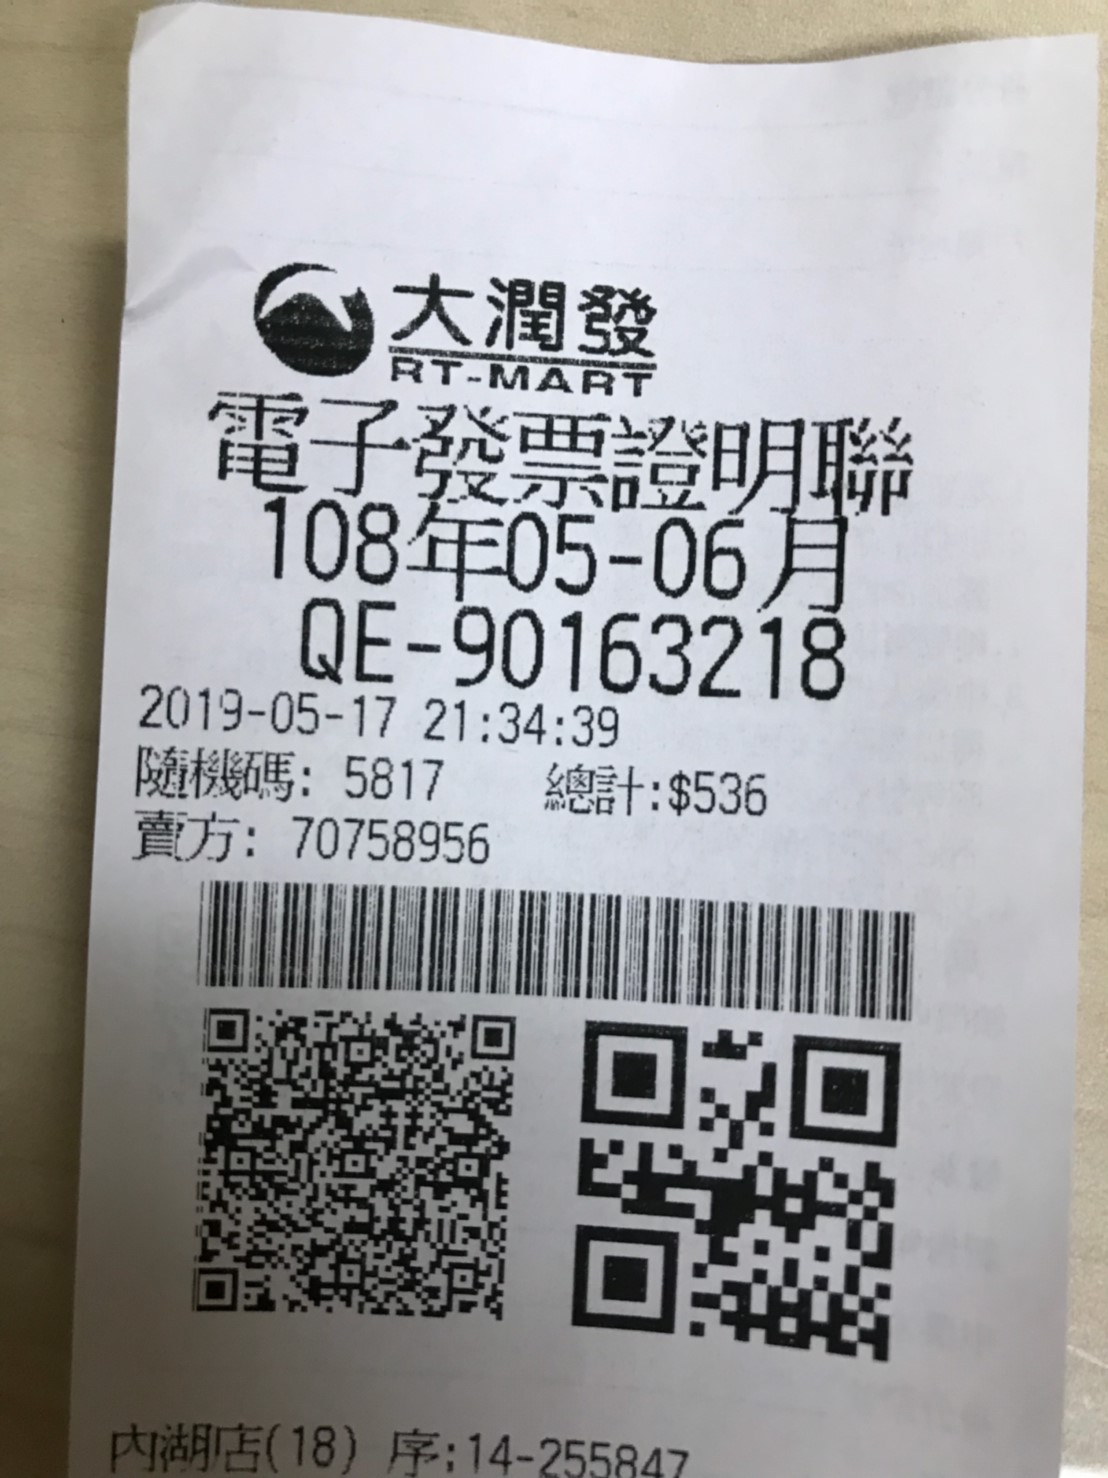Date_New: (267, 492, 852, 614)
Number_New: (452, 602, 852, 701)
